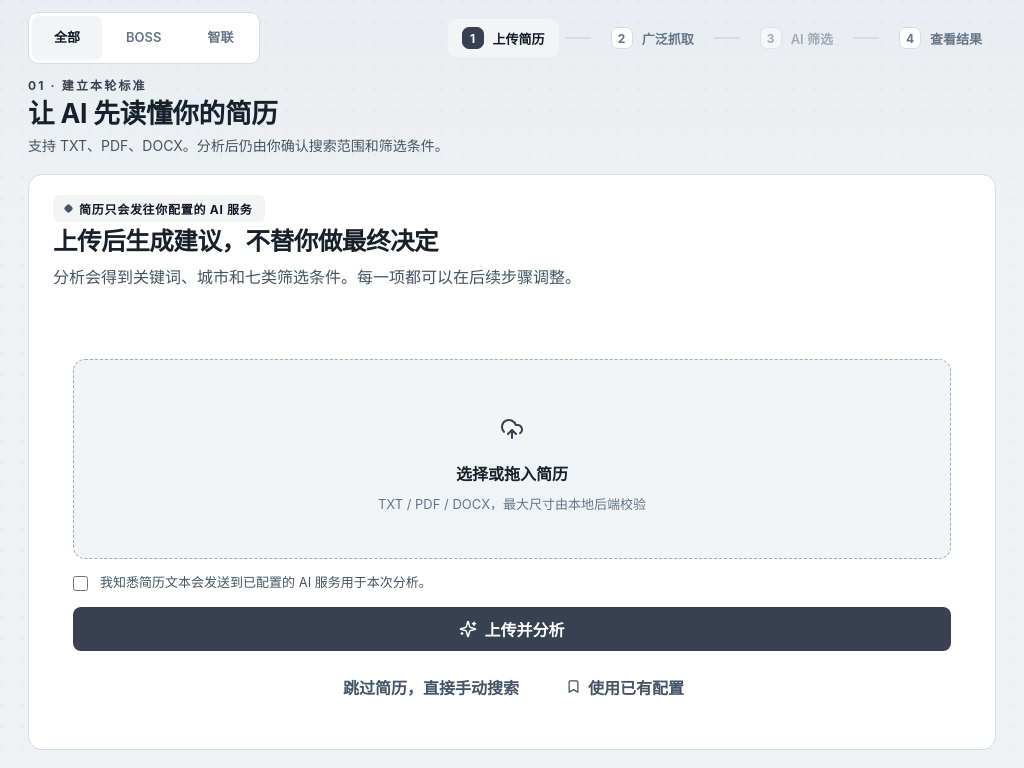
Test: Discovery recovery paths › refreshes 04 in place when a failed track adds projected jobs without a result id
This screenshot has width=1024, height=768.
Click the button "4 查看结果" at point(940, 38), box [885,19,996,57]
Wait 2100 ms
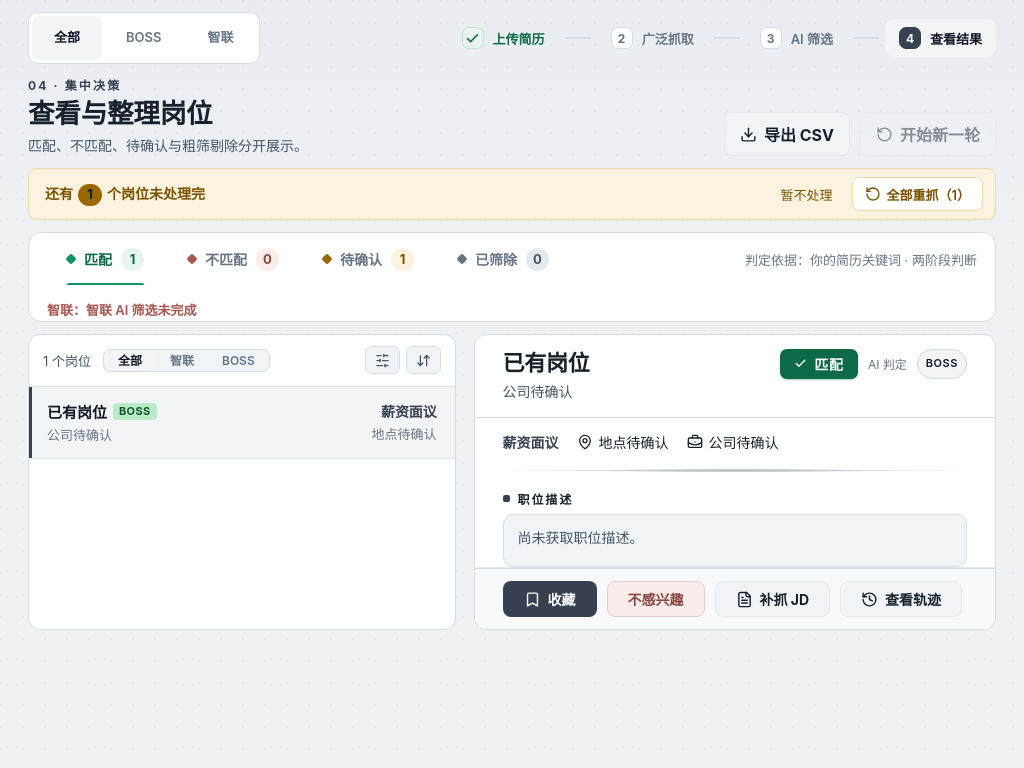
Now the element with class "results-stage" is shown, box [28,168,996,630]
Now the text "已有岗位" is shown, box [47,401,107,422]
Click the tab "待确认 1" at point(368, 259), box [303,233,434,285]
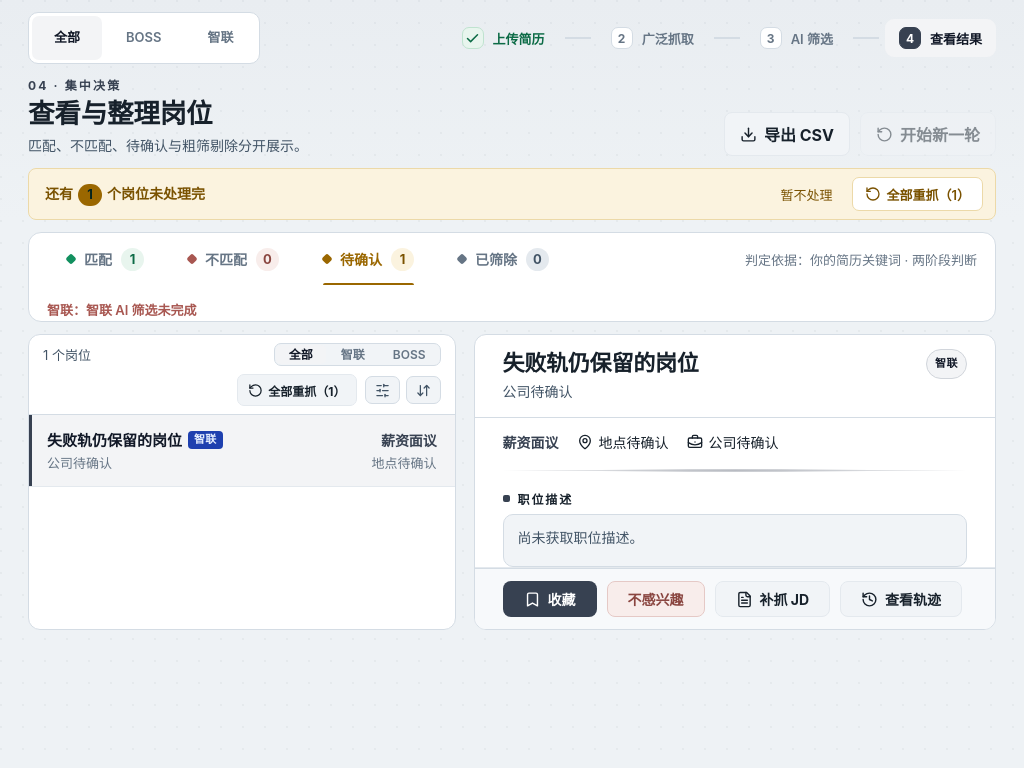
Now the text "智联 AI 筛选未完成" is shown, box [47,302,197,318]
Now the text "失败轨仍保留的岗位" is shown, box [47,429,182,450]
